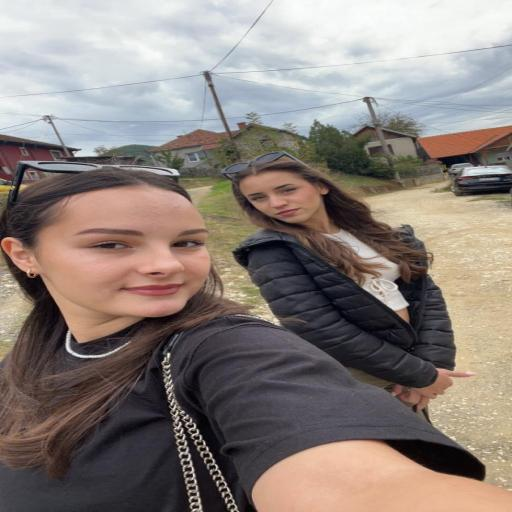marija: (39, 191, 210, 318)
masa: (233, 170, 333, 225)
